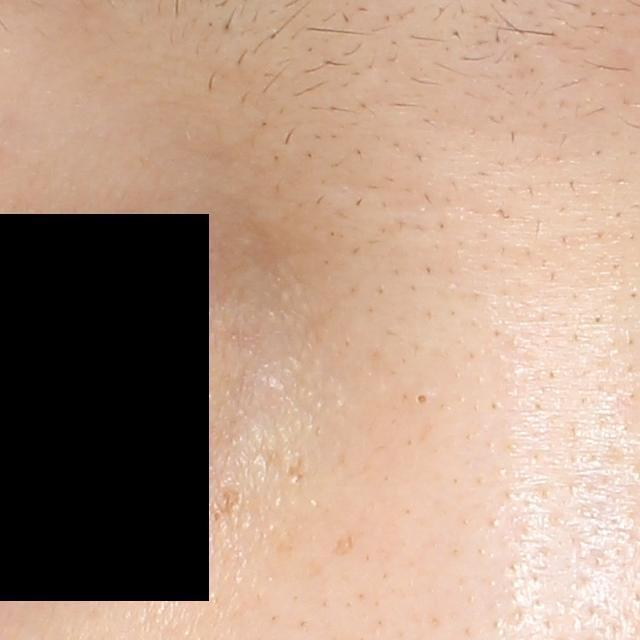comedo: (414, 390, 432, 409)
melasma: (207, 486, 245, 529), (329, 530, 356, 559), (285, 455, 304, 483)
